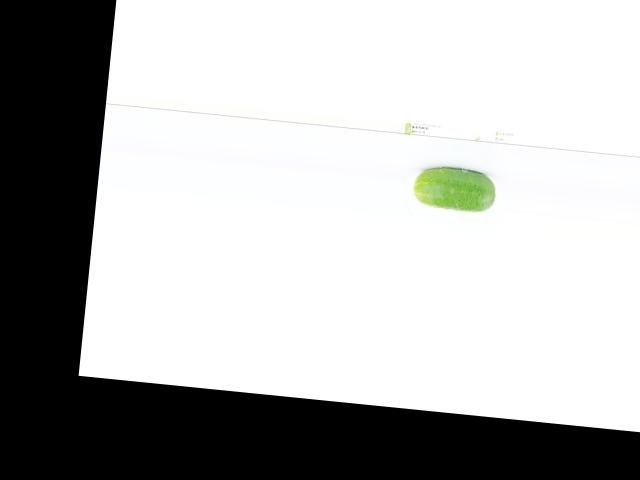cucumber: (412, 164, 498, 213)
